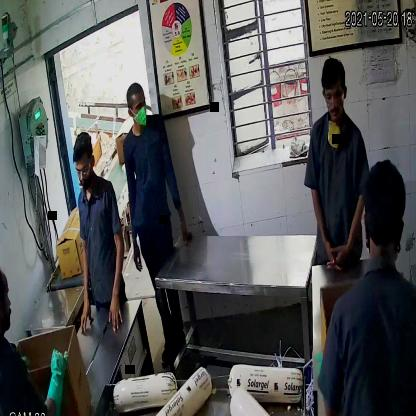goggles: (321, 84, 347, 107), (74, 158, 92, 181)
